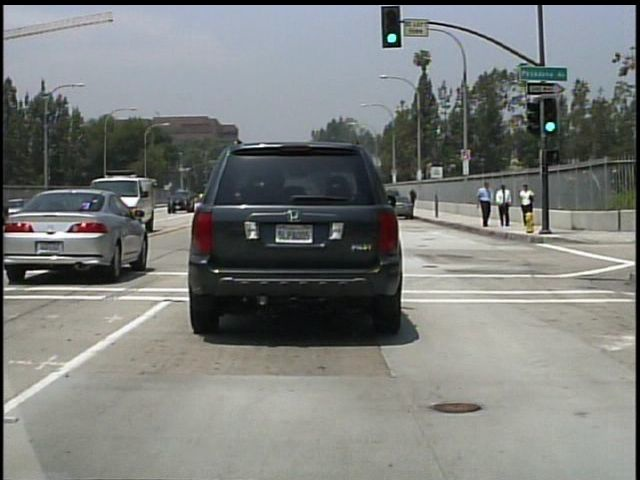person: (477, 180, 496, 232), (496, 181, 514, 227), (519, 182, 535, 214), (409, 188, 420, 211)
